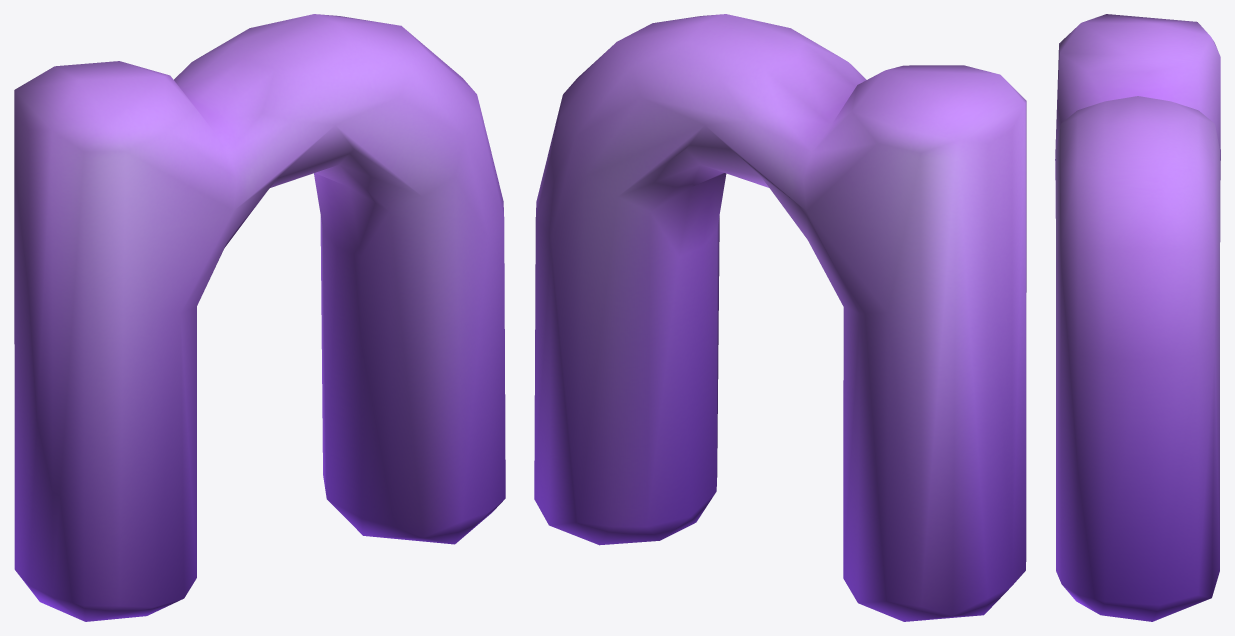
3 views of the same model, side by side, from view 1: azimuth 30°, elevation 25°; view 2: azimuth 150°, elevation 25°; view 3: azimuth 270°, elevation 25° (orthographic). The views are drawn at different scales.
Parts seen in each view (by area): view 1: Processed_Mesh0_Geometry; view 2: Processed_Mesh0_Geometry; view 3: Processed_Mesh0_Geometry.
Part boxes in pixels (x1,y1,x2,y2): Processed_Mesh0_Geometry: [14, 14, 505, 621]; Processed_Mesh0_Geometry: [534, 14, 1026, 621]; Processed_Mesh0_Geometry: [1055, 14, 1220, 621].
Size of what is drawn, in the model's own units: 0.0516 by 0.0559 by 0.0186.
Materials: 1 (1 with a texture image).
